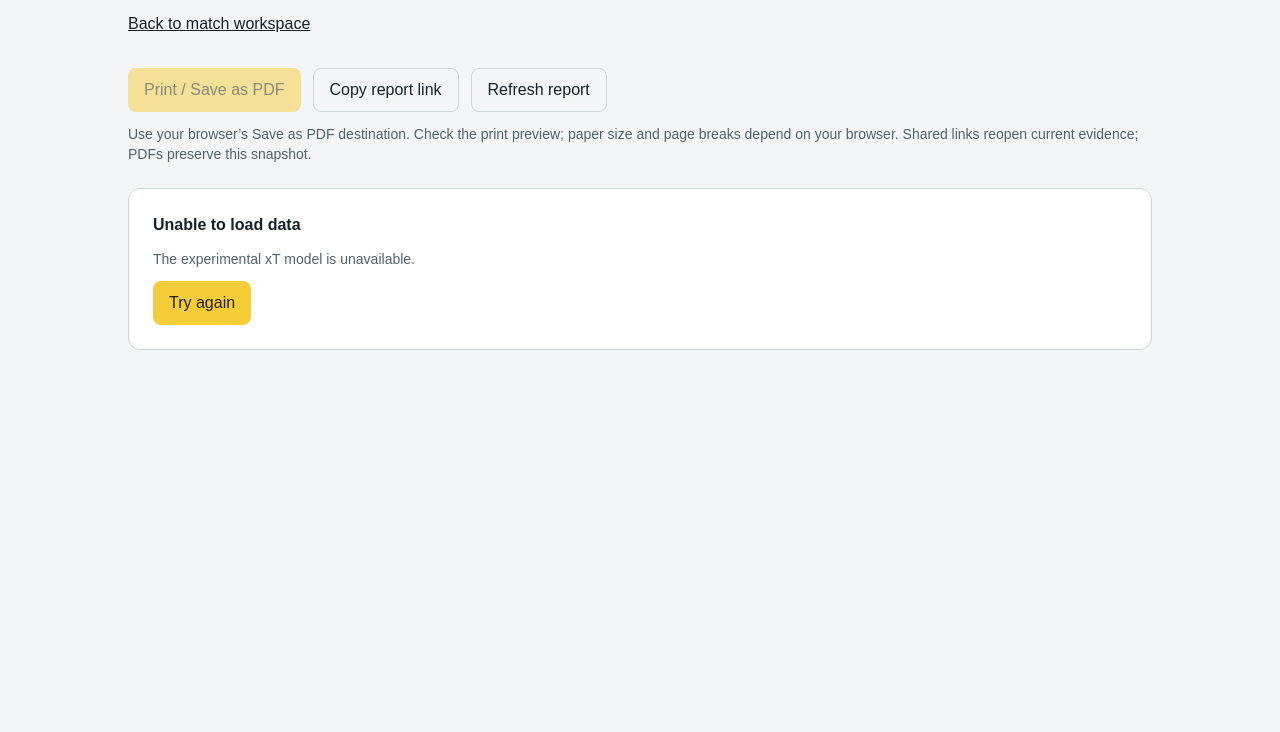
Test: report evidence › blocks export for missing core context and supports retry
Expected: the message "Unable to load data The experimental xT model is unavailable. Try again" is shown, [128,188,1152,350]
Expected: the button "Print / Save as PDF" is disabled, [128,68,300,112]
Click the button "Try again" at point(202, 303), box [153,281,251,325]
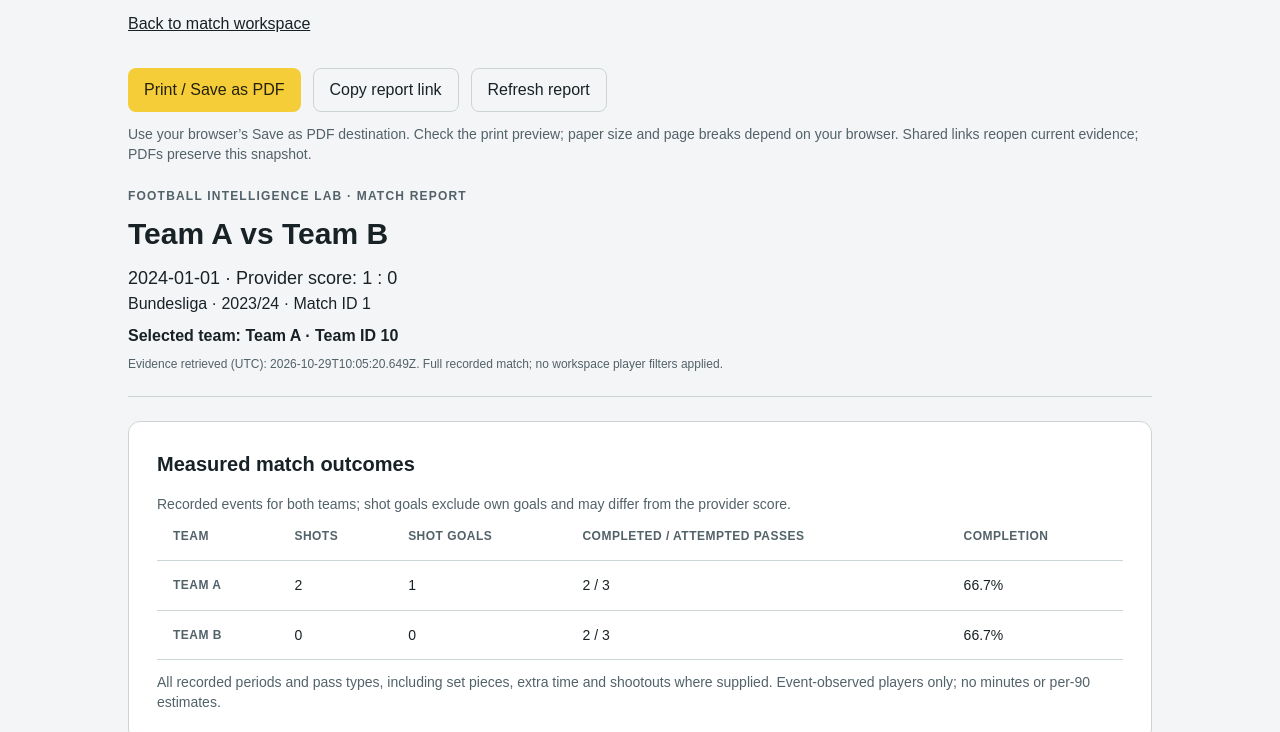
Expected: the button "Print / Save as PDF" is enabled, [128,68,300,112]
